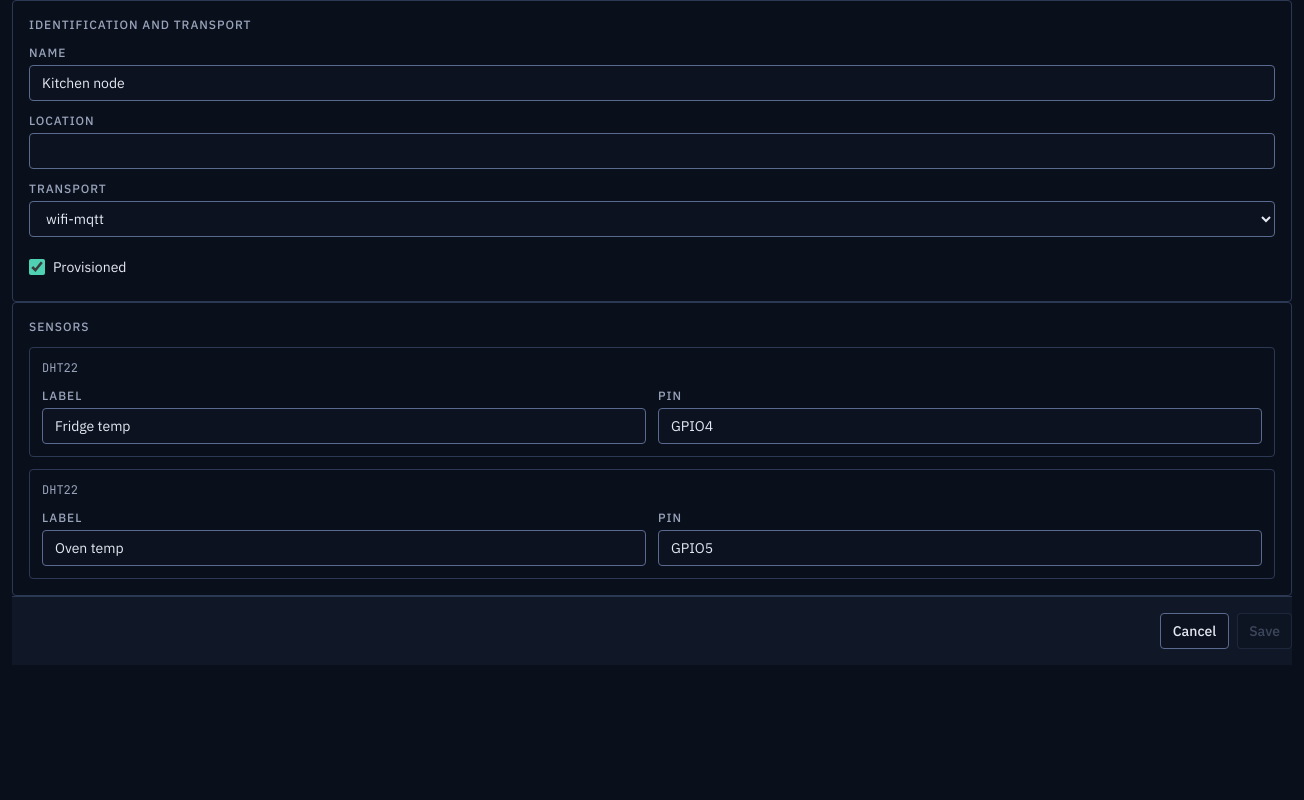
DeviceConfigContainer › shows the failure of the first edited sensor even when the last sensor succeeds
Replace the text in the 1st field labelled "Label" with "Freezer temp" at (344, 426), box [42,408,646,444]
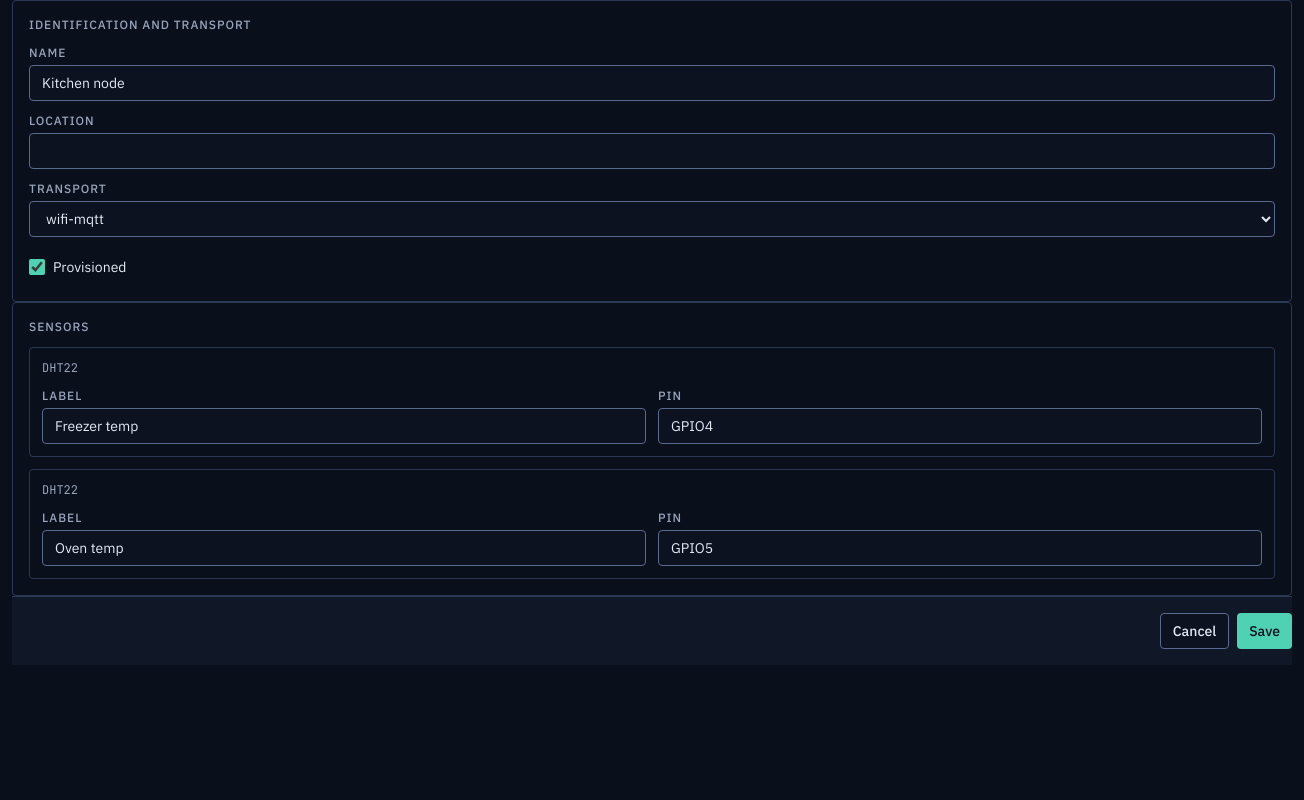
Replace the text in the 2nd field labelled "Label" with "Pantry temp" at (344, 548), box [42,530,646,566]
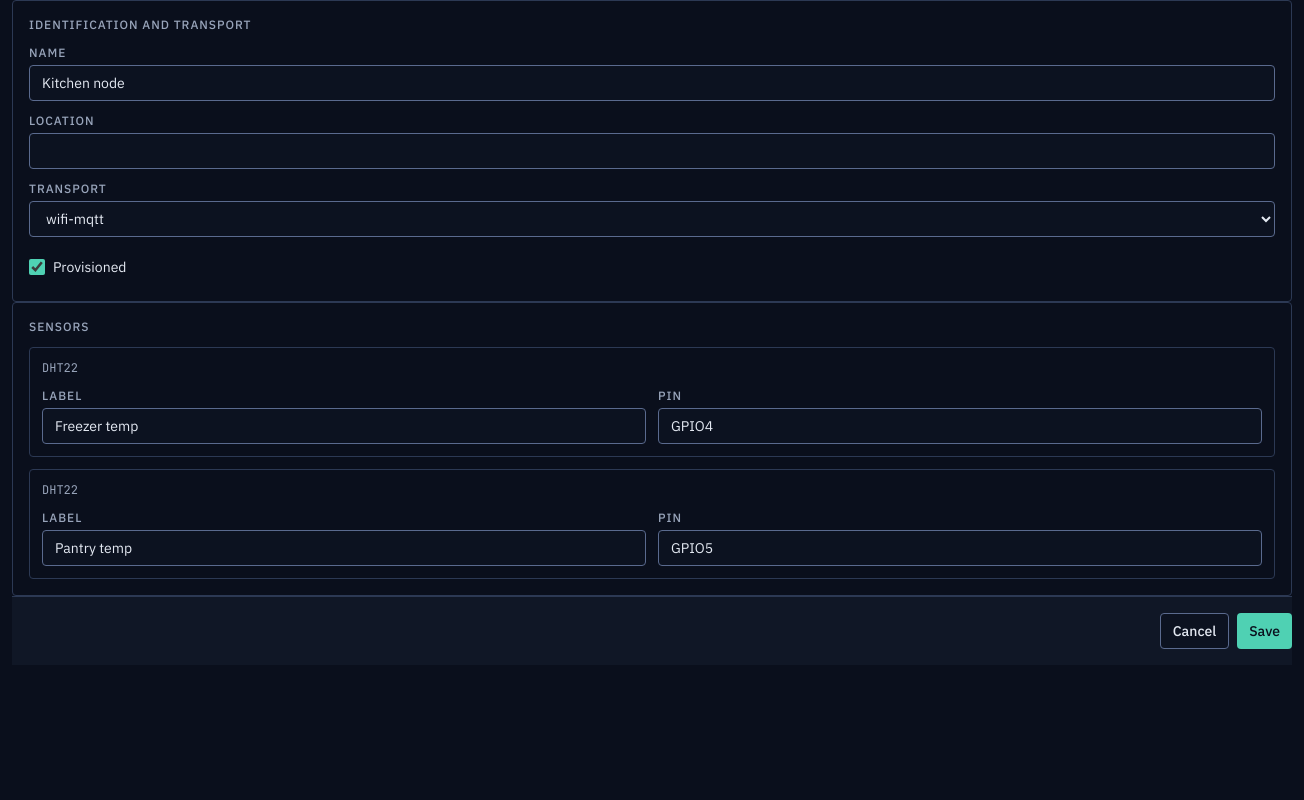
Click the button "Save".
click(1265, 631)  # box [1237,613,1292,649]
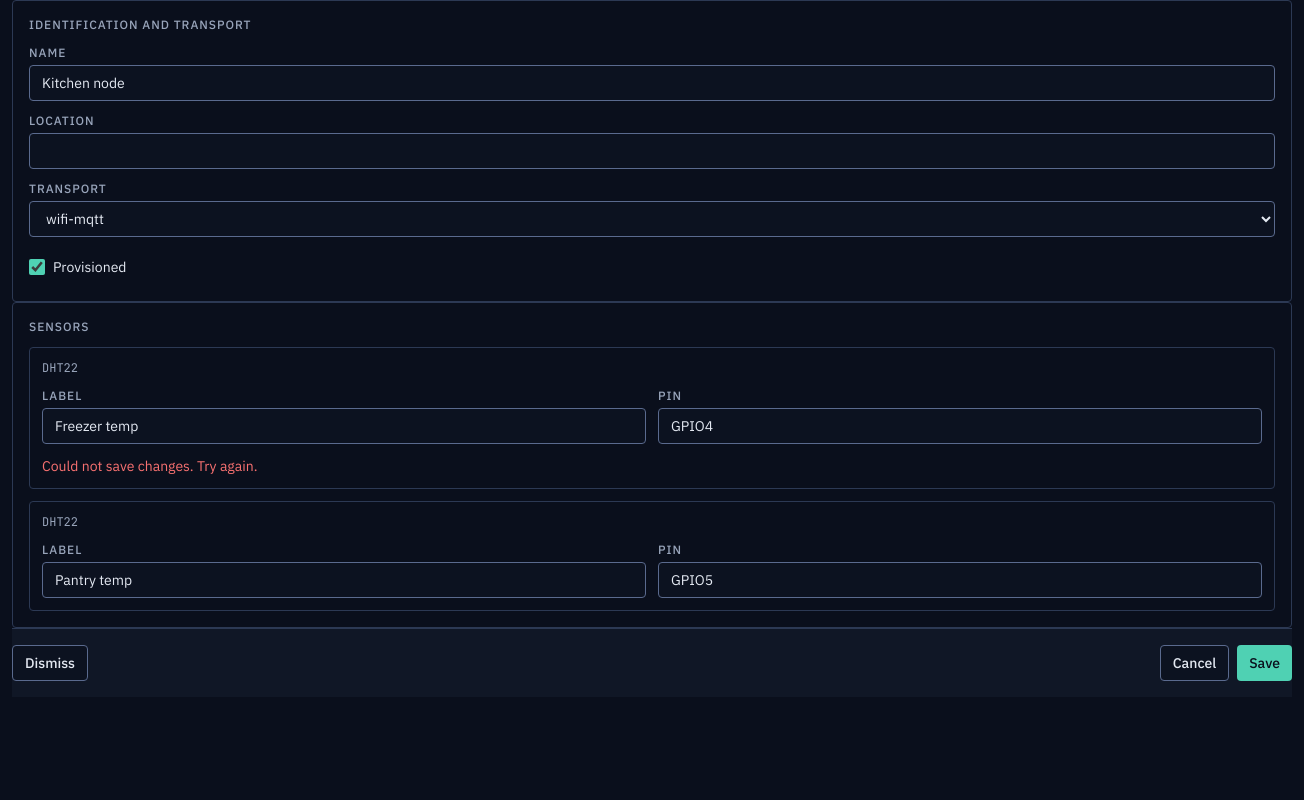
Expected: the number of messages is 1, [42,457,258,475]
Expected: the message reads "Could not save changes. Try again.", [42,457,258,475]
